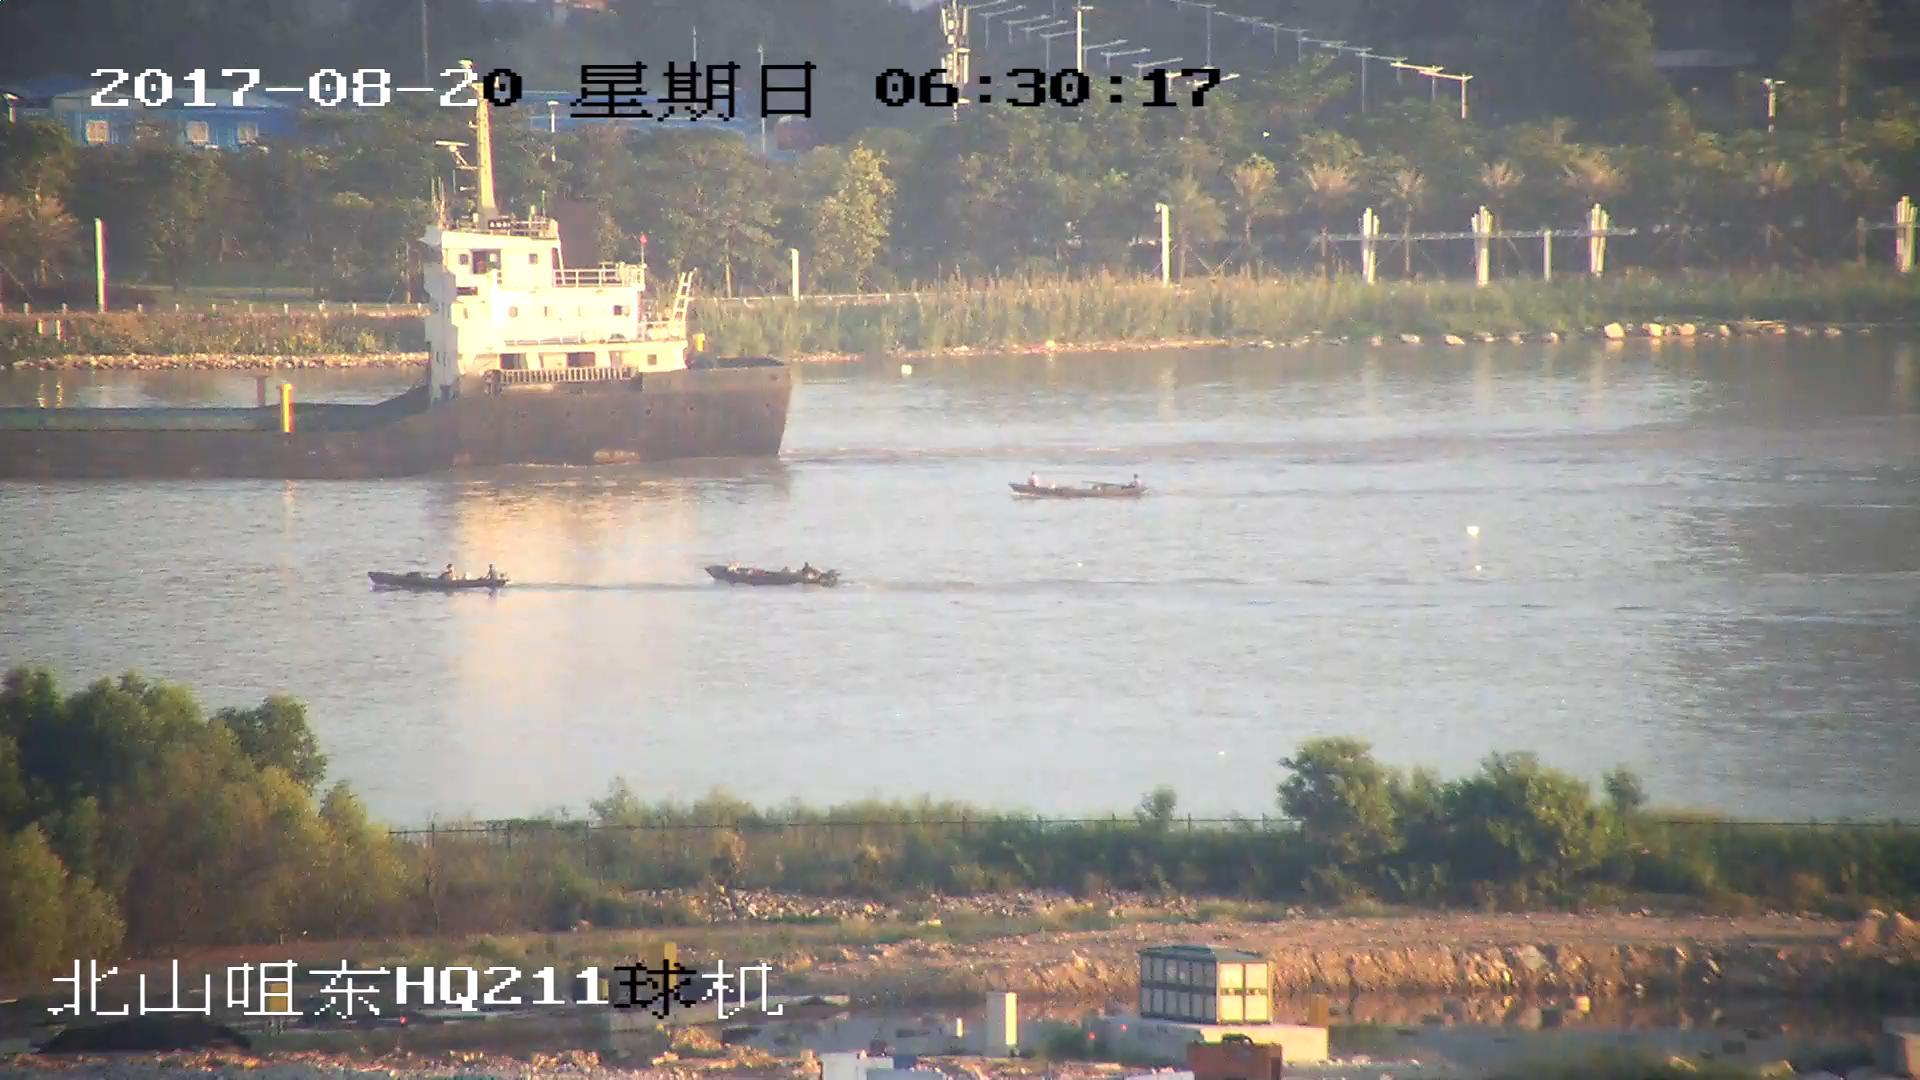Ship: (3, 127, 798, 475), (705, 555, 837, 593), (1010, 467, 1150, 498), (371, 564, 510, 595)
